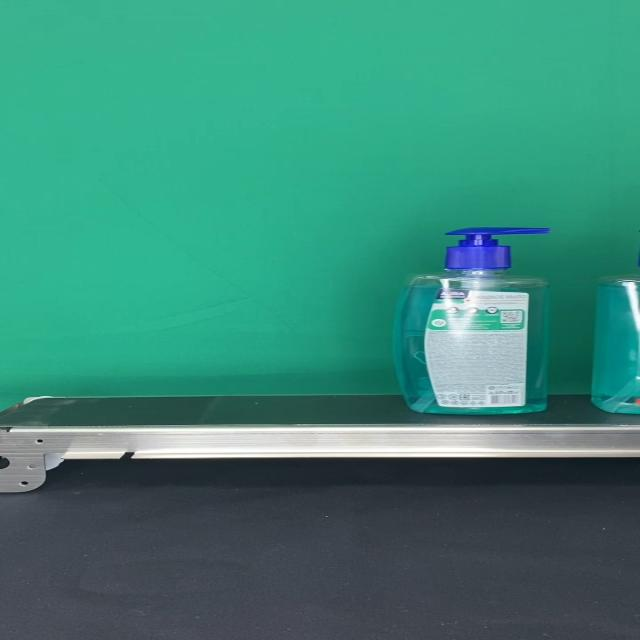Bottle: (391, 228, 551, 414)
Cap: (443, 227, 551, 269)
